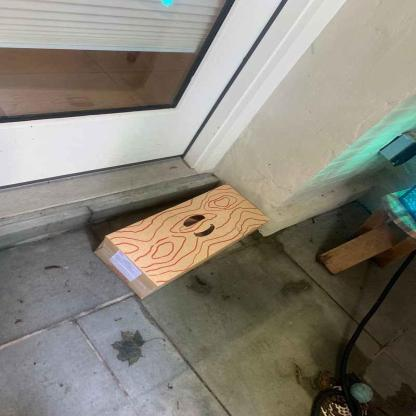label: (108, 250, 141, 283)
package: (92, 182, 267, 300)
